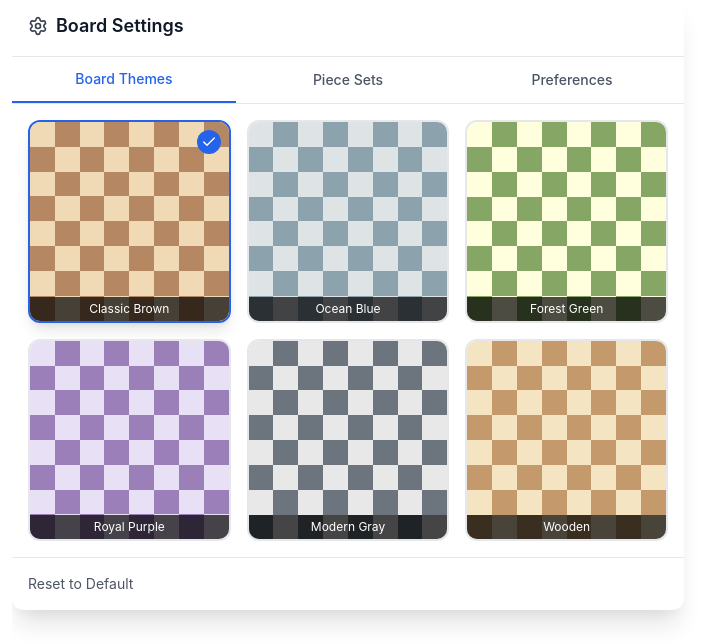
BoardSettings - Haptic Feedback › should show haptic feedback toggle in Preferences tab
// Click on Preferences tab
Click the button "Preferences". click: (572, 80)
box: [460,57,684,103]
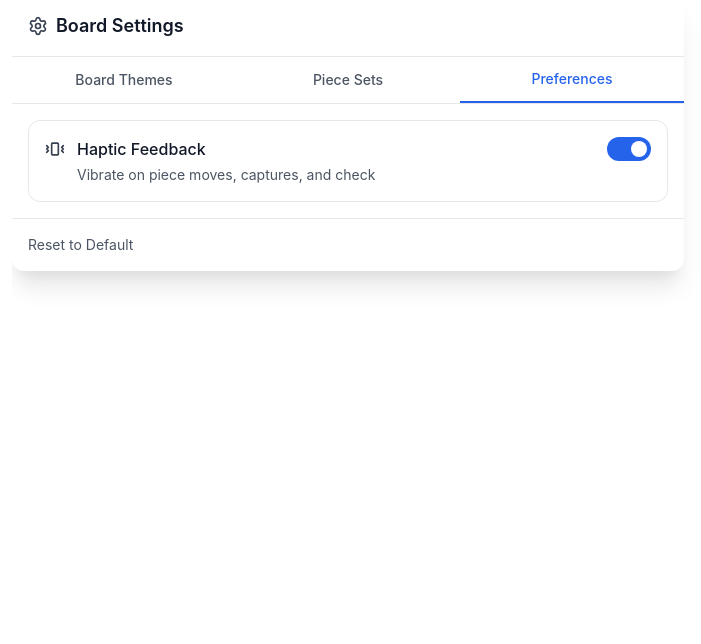
Now the text "Haptic Feedback" is shown, box [77,139,206,159]
Now the text "Vibrate on piece moves, captures, and check" is shown, box [77,165,375,185]
